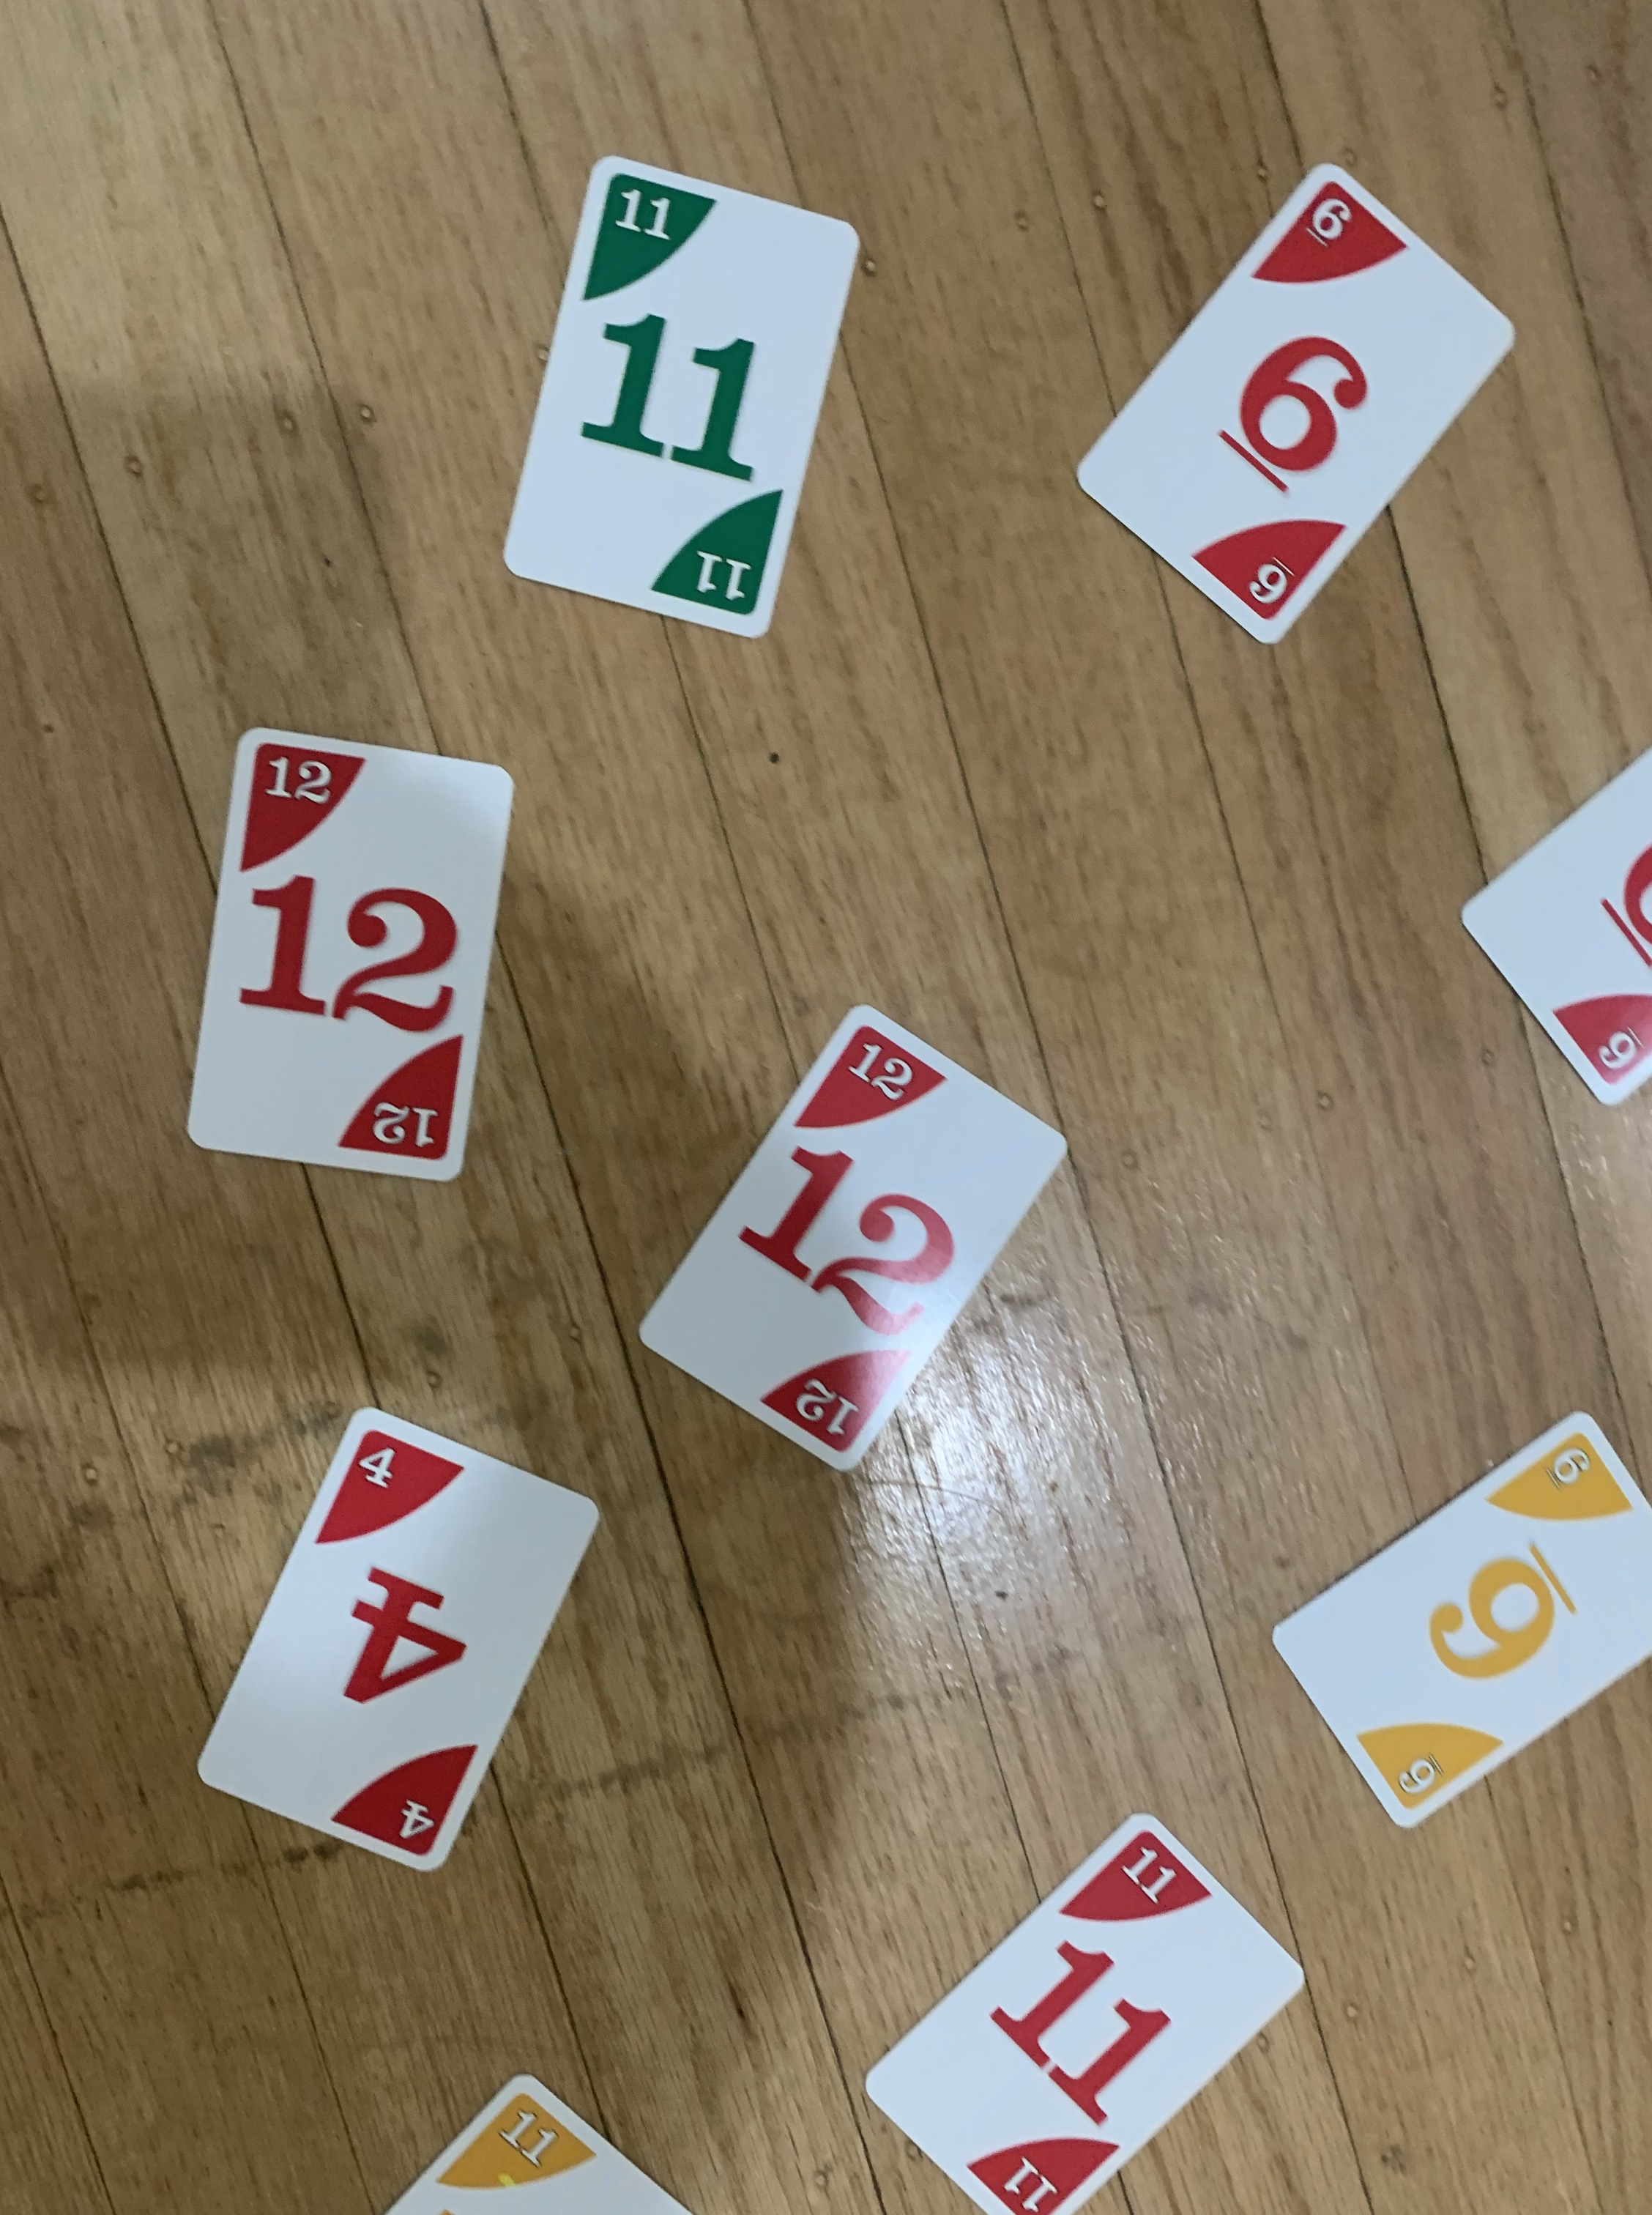eleven: (484, 151, 864, 653), (855, 1811, 1288, 2175)
four: (168, 1403, 606, 1875)
nine: (1268, 1394, 1652, 1844)
six: (1064, 163, 1527, 656)
twelve: (626, 991, 1074, 1477), (180, 710, 521, 1201)
